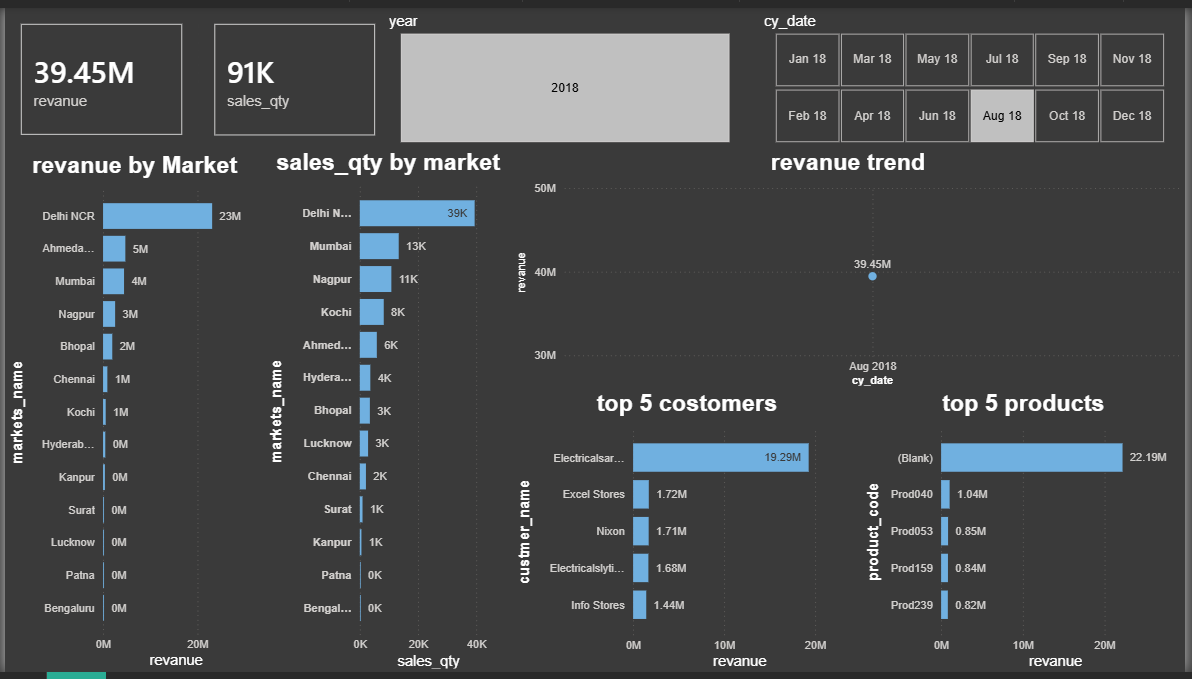

The page's visual inventory and layout, read from the dashboard file:
{"tool":"powerbi","page":{"name":"Page 1","canvas":[1280,720],"ordinal":0},"visuals":[{"type":"cardVisual","fields":{"Data":["BaseMeasure.revanue"]},"box":[0,0,209.8,155],"z":0},{"type":"cardVisual","fields":{"Data":["BaseMeasure.sales_qty"]},"box":[210.4,0,208.7,155.7],"z":1000},{"type":"barChart","title":"revanue by Market","fields":{"Y":["BaseMeasure.revanue"],"Category":["sales markets.markets_name"]},"box":[0,156.1,281.4,564.4],"z":2000},{"type":"barChart","title":"sales_qty by market","fields":{"Category":["sales markets.markets_name"],"Y":["BaseMeasure.sales_qty"]},"box":[281.6,152.4,268.3,568.2],"z":3000},{"type":"slicer","fields":{"Values":["sales date.cy_date"]},"box":[810,0,470.4,152.4],"z":4000},{"type":"slicer","fields":{"Values":["sales date.year"]},"box":[404.2,0,405.8,152.4],"z":5000},{"type":"barChart","title":"top 5 costomers","fields":{"Category":["sales customers.custmer_name"],"Y":["BaseMeasure.revanue"]},"box":[550,414.1,379.3,306.4],"z":6000},{"type":"barChart","title":"top 5 products","fields":{"Category":["sales products.product_code"],"Y":["BaseMeasure.revanue"]},"box":[929.3,414.1,351.2,306.4],"z":7000},{"type":"lineChart","title":"revanue trend","fields":{"Y":["BaseMeasure.revanue"],"Category":["sales date.cy_date"]},"box":[550,152.4,728.9,261.7],"z":8000}]}

Visuals, with their boxes in screenshot pixels (x1, y1, x2, y2), scaled from the page's 1280x720 canvas onto the 1192x679 screenshot:
cardVisual - BaseMeasure.revanue: crop(0, 0, 195, 146)
cardVisual - BaseMeasure.sales_qty: crop(196, 0, 390, 147)
"revanue by Market" barChart: crop(0, 147, 262, 678)
"sales_qty by market" barChart: crop(262, 144, 512, 678)
slicer - sales date.cy_date: crop(754, 0, 1191, 144)
slicer - sales date.year: crop(376, 0, 754, 144)
"top 5 costomers" barChart: crop(512, 391, 865, 678)
"top 5 products" barChart: crop(865, 391, 1191, 678)
"revanue trend" lineChart: crop(512, 144, 1191, 391)
